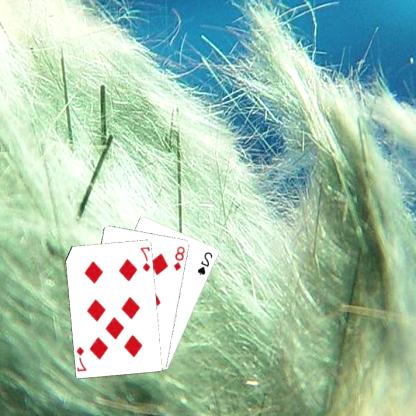2S: (197, 249, 215, 276)
7D: (140, 244, 153, 273), (76, 344, 89, 372)
8D: (173, 244, 188, 272)
